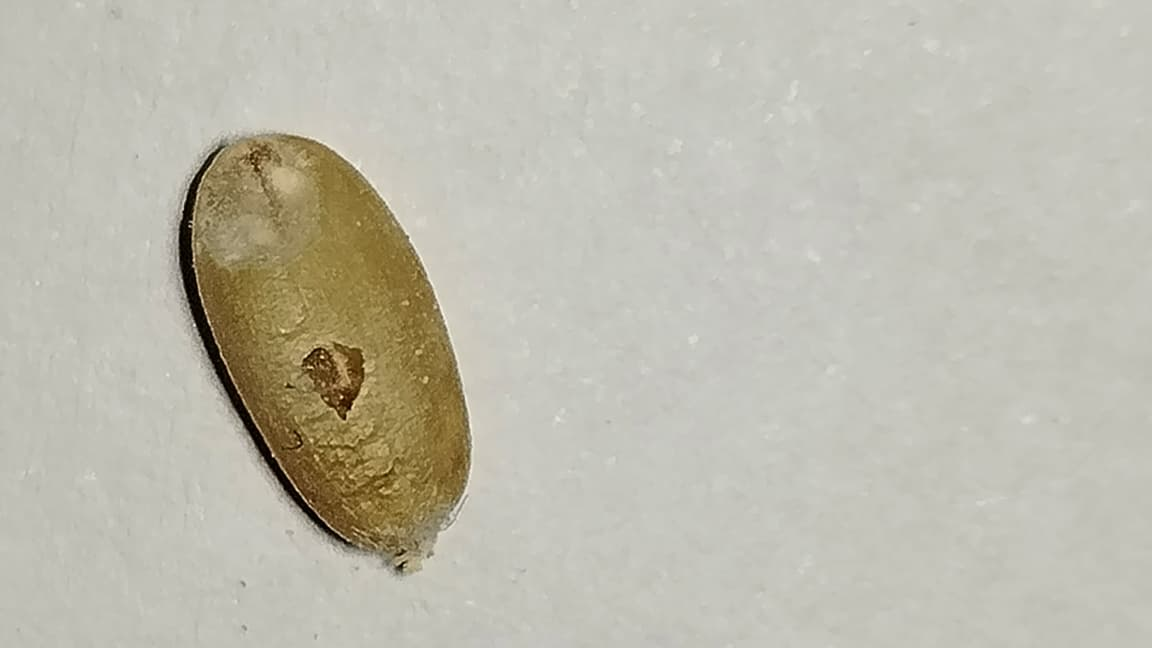damage: (193, 136, 470, 555)
insectdamage: (166, 142, 328, 272), (261, 318, 394, 440)
